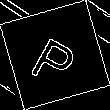P_NE: (27, 24, 83, 86)
